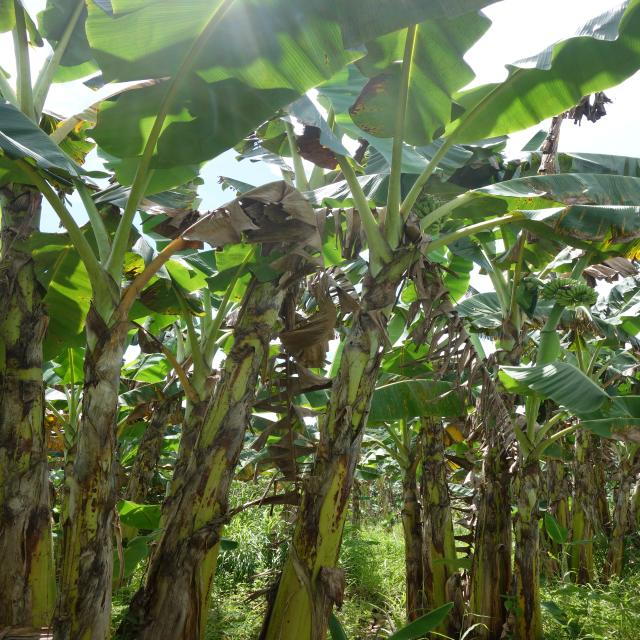Banana-plant: (222, 207, 482, 640), (118, 162, 334, 640), (53, 213, 174, 640), (0, 79, 72, 640), (407, 369, 468, 640), (507, 417, 569, 640)
